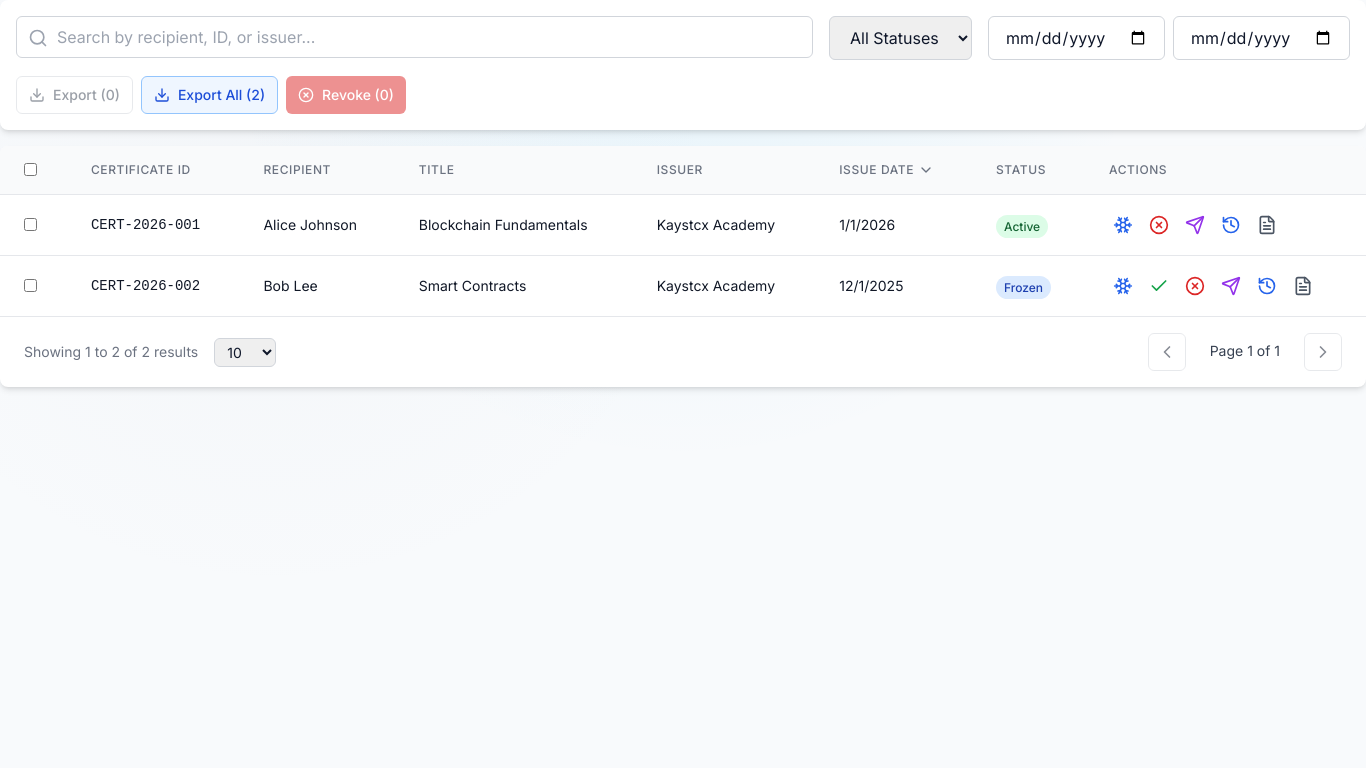
Test case: <CertificateTable /> › opens the history modal and renders the events
The width and height of the screenshot is (1366, 768).
Click the button titled "View History" in the row of "CERT-2026-001" at (1231, 225), box [1217, 211, 1245, 239]
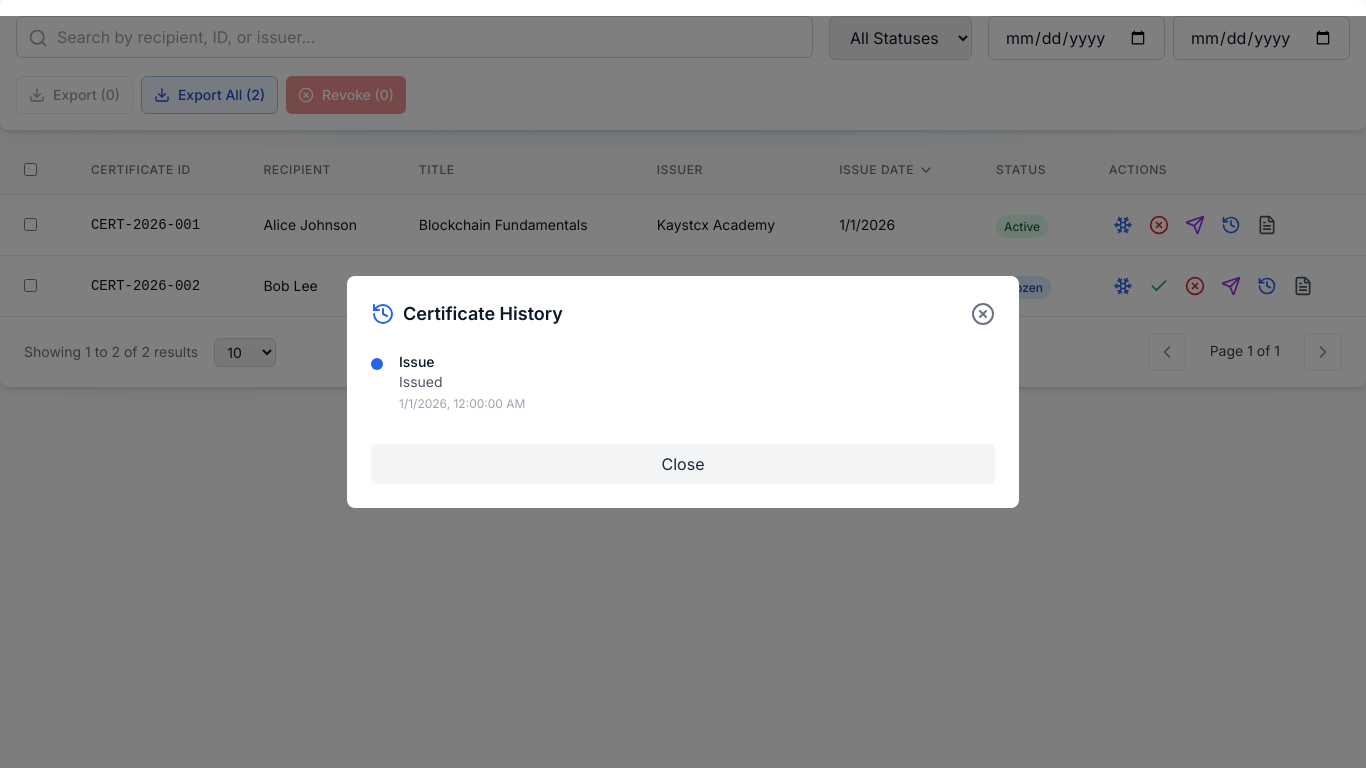
Expected: the text "Issued" is shown, [399, 373, 443, 390]
